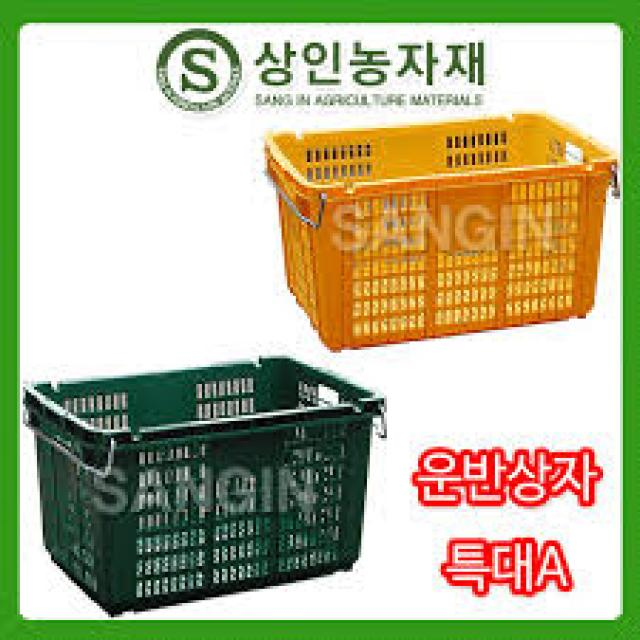basket: (21, 348, 407, 624), (263, 91, 638, 358)
